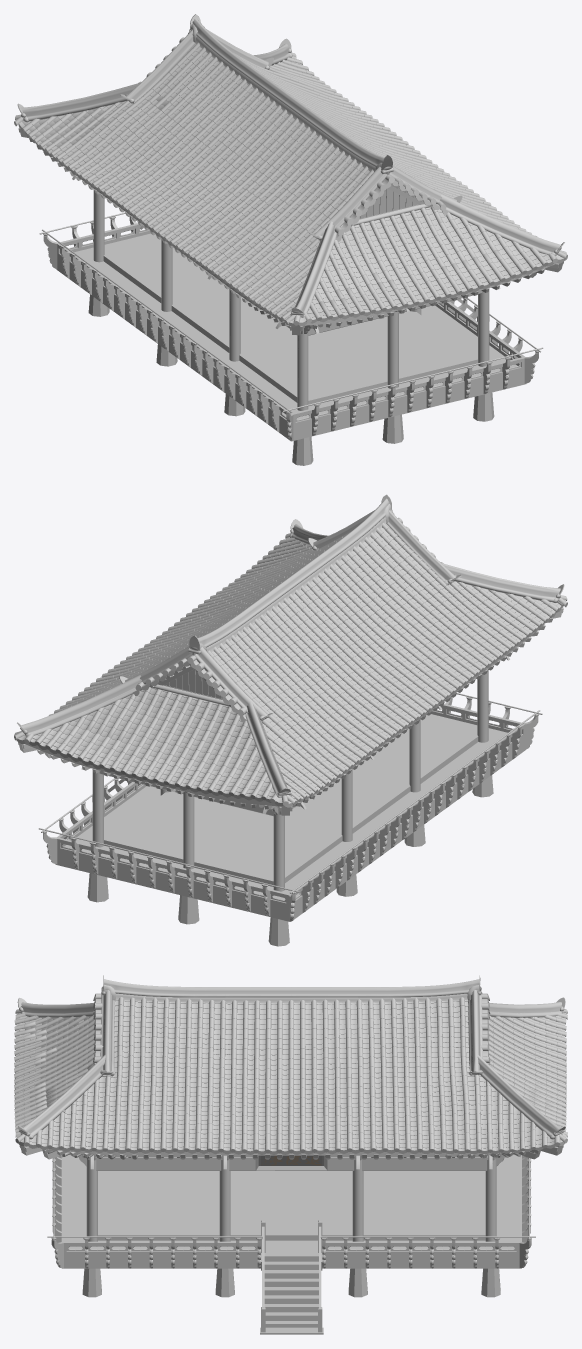
Rendered from SM_Pavilion.fbx.
3 renders of one model, top to bottom at view 1: azimuth 30°, elevation 25°; view 2: azimuth 150°, elevation 25°; view 3: azimuth 270°, elevation 25°, orthographic. The views are drawn at different scales.
Visible parts, largest first — view 1: Pavilion_mesh; view 2: Pavilion_mesh; view 3: Pavilion_mesh.
Part boxes in pixels (<box>): Pavilion_mesh: <box>14,14,567,465</box>; Pavilion_mesh: <box>14,494,567,946</box>; Pavilion_mesh: <box>14,975,567,1334</box>.
Size of the model in its own units: 1291 by 1086 by 1985.
